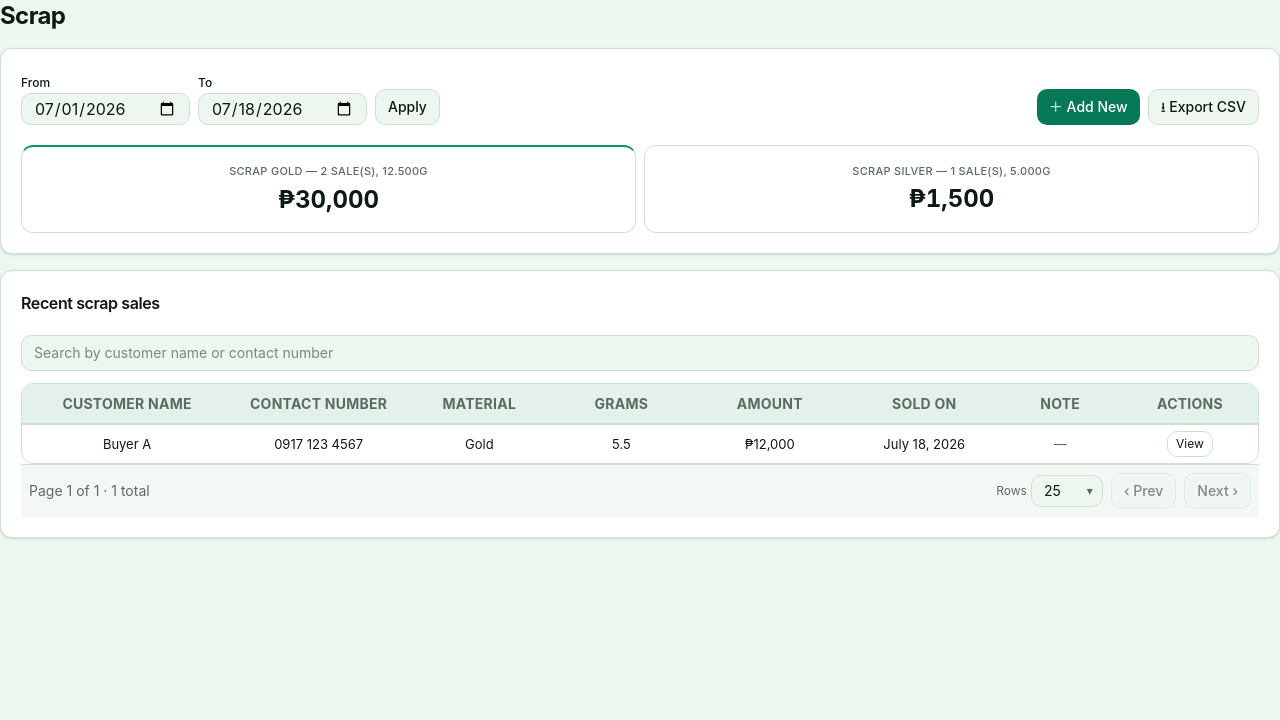
Test: ScrapView › adds another item row when Add Item is clicked
What coordinates should you click on to do the following:
click the button with test id "scrap-record-open"
I would click on:
 (1088, 107)
Its box is [1037,89,1140,125].
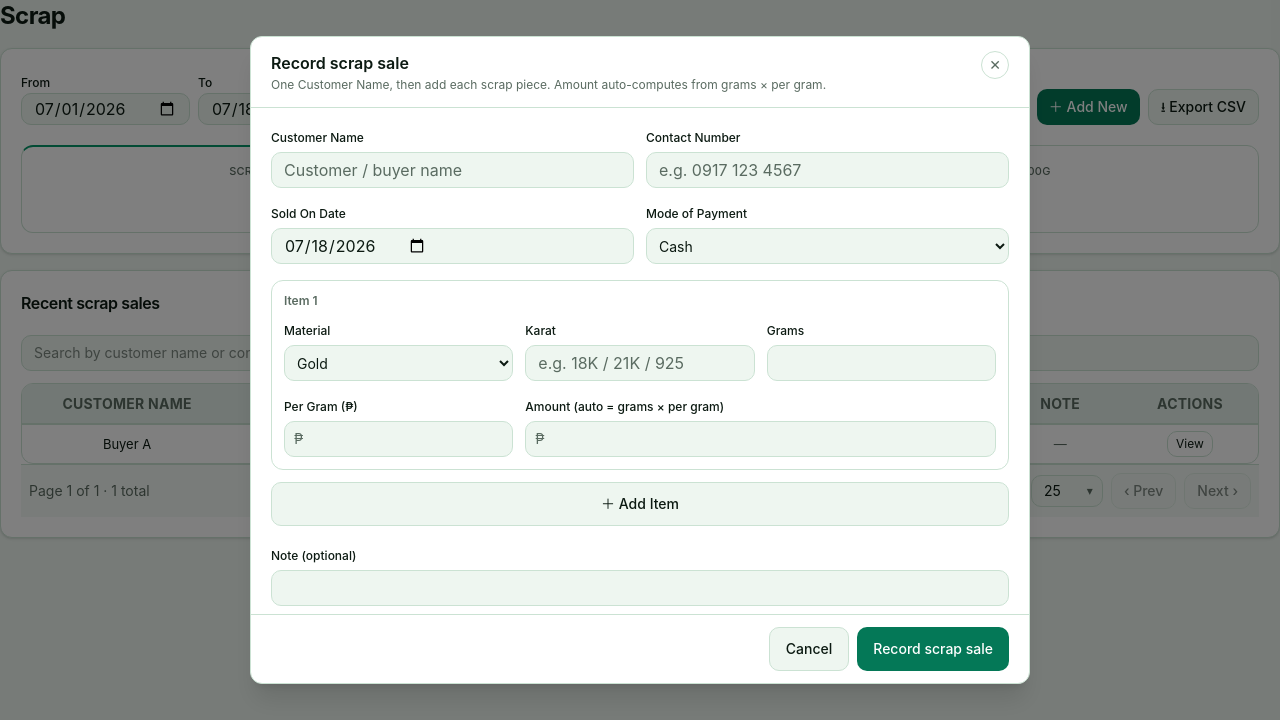
Expected: the element with test id "scrap-item-0" is shown, [271,280,1009,470]
What coordinates should you click on to do the following:
click the button with test id "scrap-add-item"
I would click on:
 (640, 504)
Its box is [271,482,1009,526].
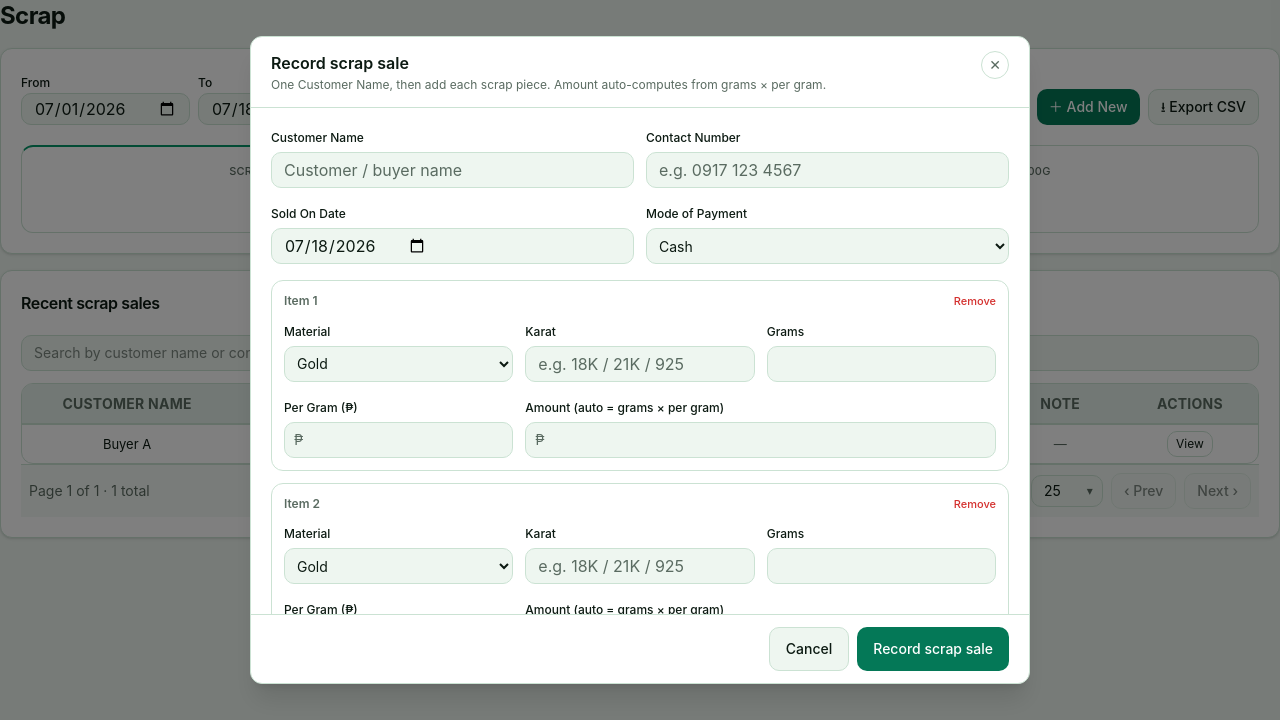
Expected: the element with test id "scrap-item-1" is shown, [271,482,1009,614]
